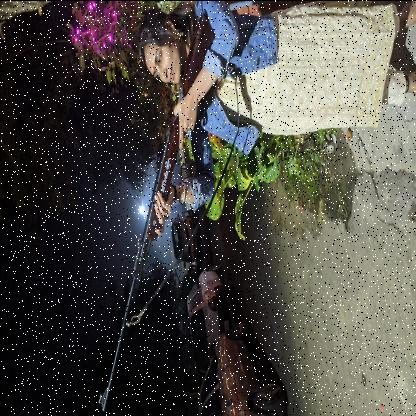rifle: (97, 10, 217, 414)
